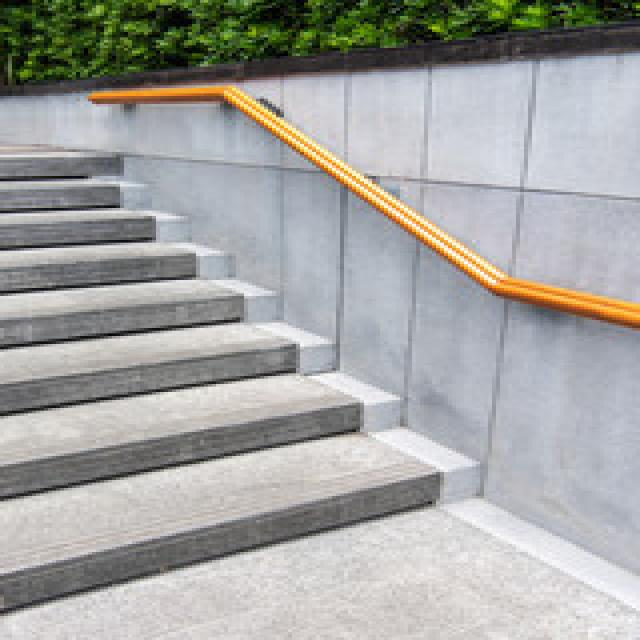stair: (0, 150, 439, 610)
